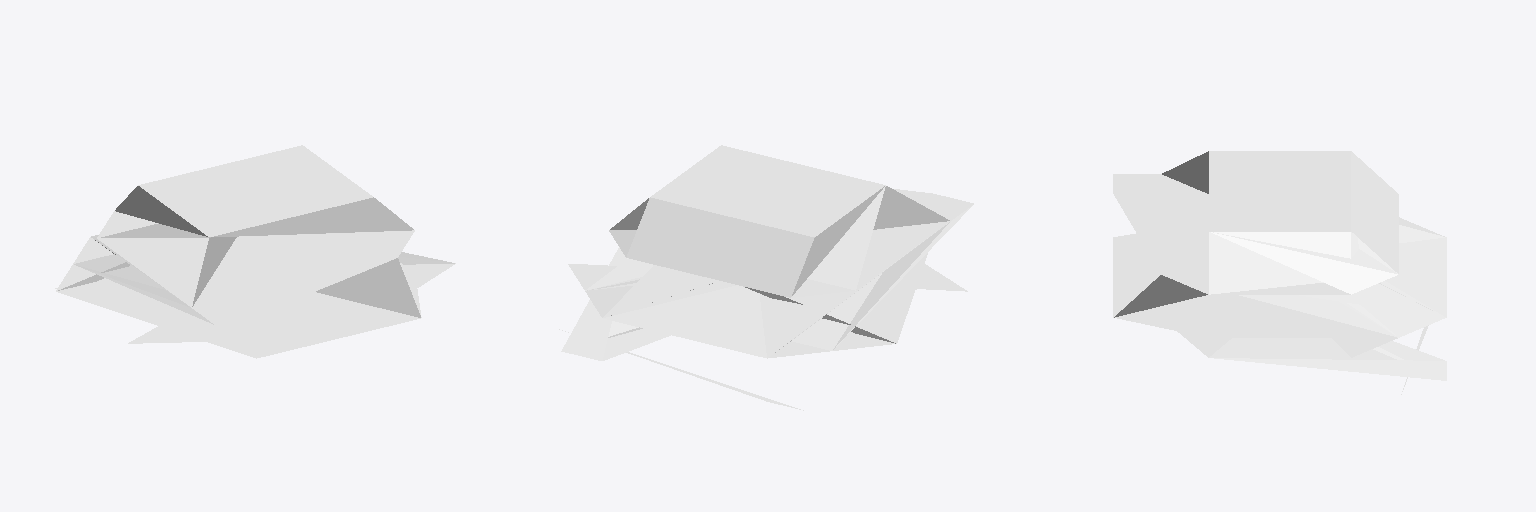
File: Character0_Attack0.obj
3 views of the same model, side by side, from view 1: azimuth 30°, elevation 25°; view 2: azimuth 150°, elevation 25°; view 3: azimuth 270°, elevation 25° (orthographic).
Size of the model in its own units: 8 by 3 by 7.